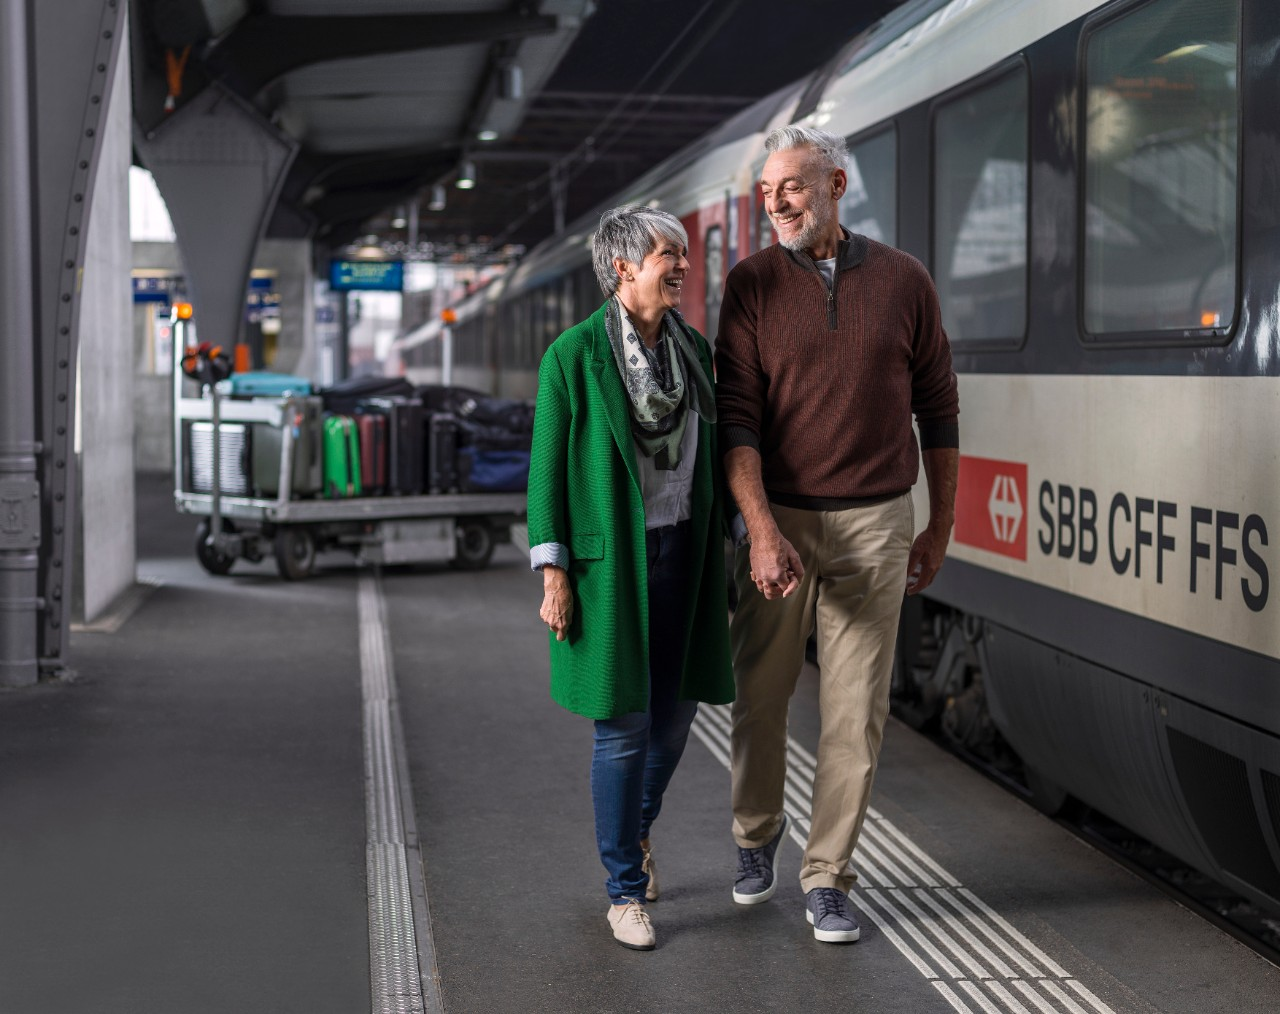without_mask: (754, 161, 831, 250), (642, 236, 692, 311)
